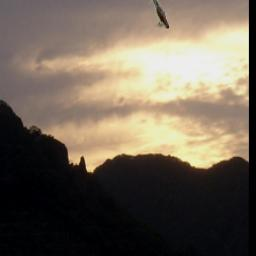Cuckoo: (149, 0, 169, 28)
